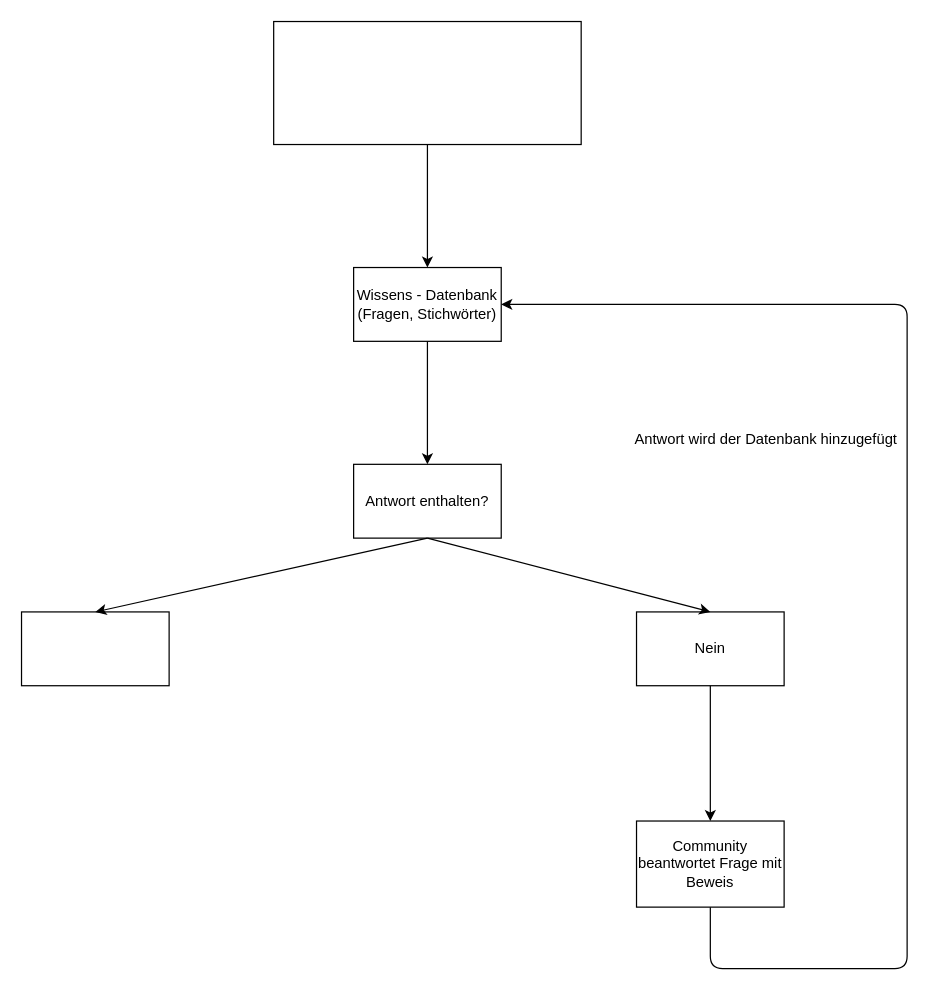
This 938x1000 diagram has some shape labels left out. The centre of each missing label's shape, as x and y in pixels:
Eingabe Frage:: point 426,82
Ja: point 94,648
